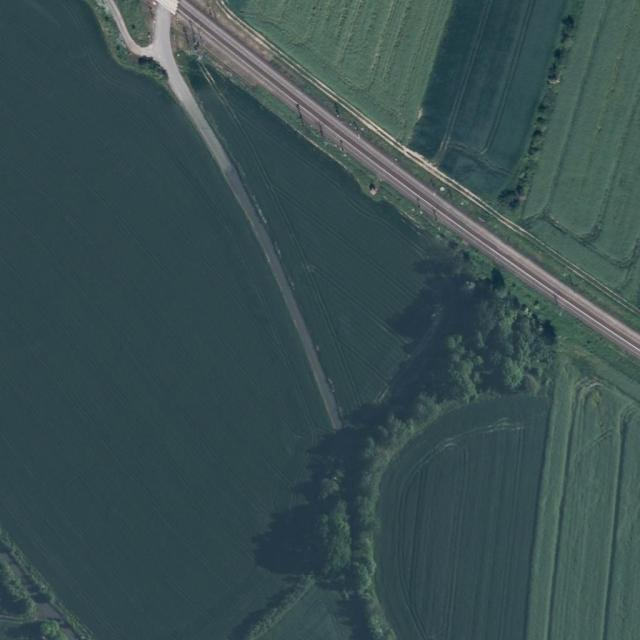agricultural_land: (401, 0, 569, 205)
building: (526, 364, 640, 639)
greenland: (245, 243, 588, 640), (498, 0, 582, 212), (0, 527, 95, 639)
metalled_road: (106, 0, 353, 445)
